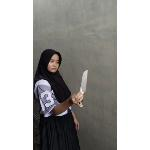Pisau: (77, 66, 92, 107)
